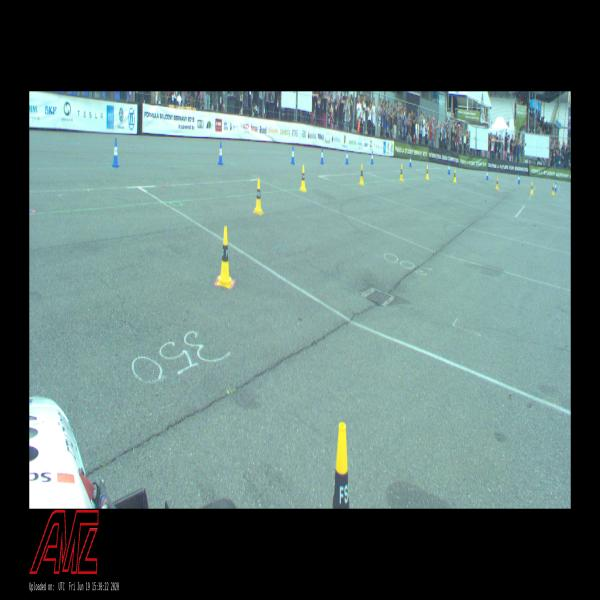blue_cone: (112, 138, 119, 167), (218, 142, 223, 165), (290, 146, 294, 164), (320, 148, 324, 164), (409, 155, 412, 167), (517, 173, 520, 184), (346, 150, 348, 164), (371, 151, 373, 164), (448, 163, 450, 174), (486, 170, 488, 180), (554, 182, 556, 191)
yellow_cone: (325, 424, 356, 508), (217, 226, 233, 288), (254, 178, 262, 214), (300, 165, 306, 191), (360, 165, 364, 185), (400, 164, 404, 182), (425, 165, 429, 179), (453, 169, 456, 182), (530, 182, 533, 194), (496, 177, 498, 189), (552, 185, 554, 195)
